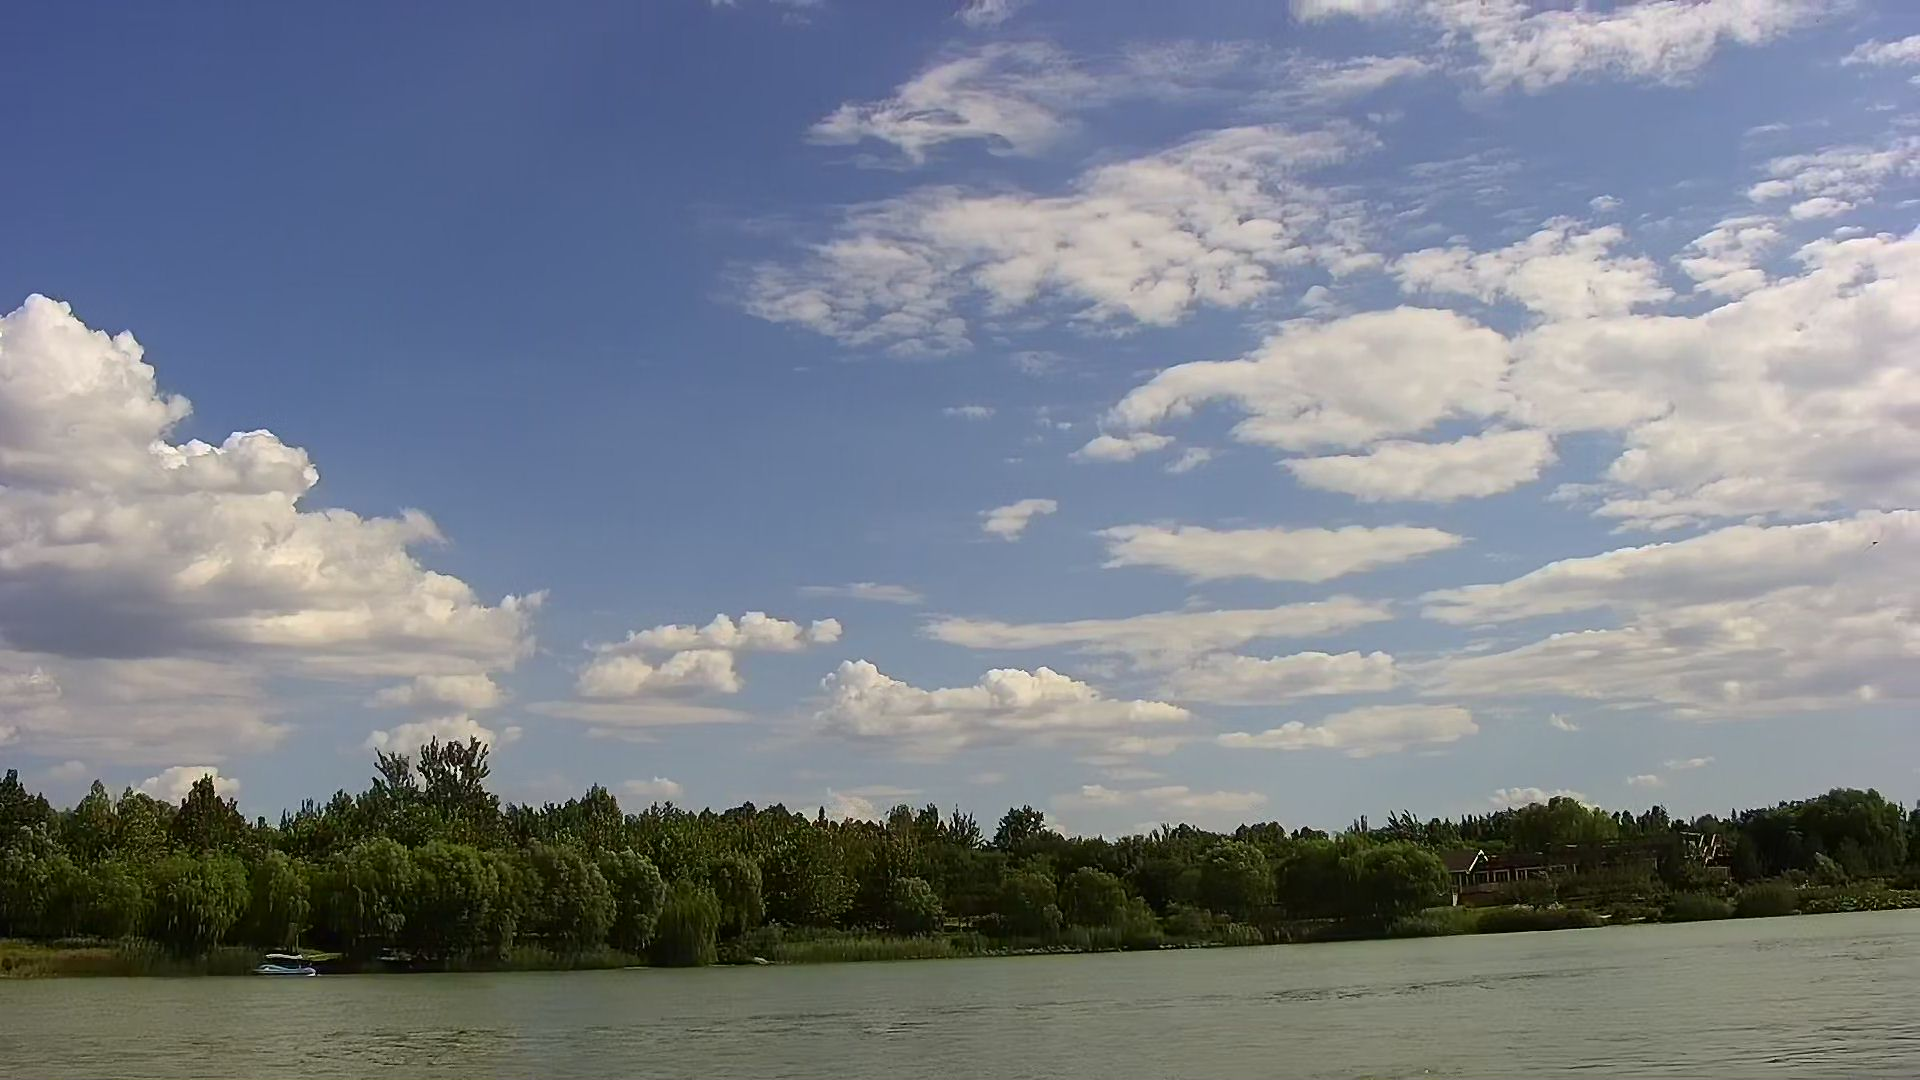boat: (249, 949, 314, 980)
